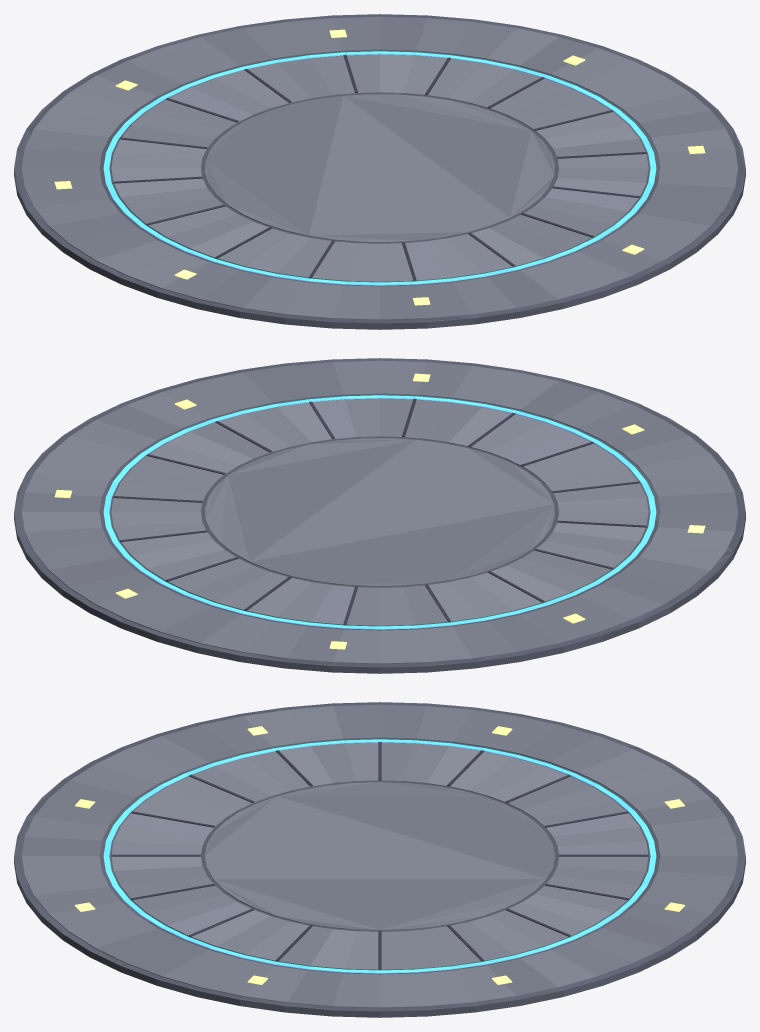
File: Floor_Hub_Disc.fbx
3 views of the same model, one above another, from view 1: azimuth 30°, elevation 25°; view 2: azimuth 150°, elevation 25°; view 3: azimuth 270°, elevation 25° (orthographic).
Visible parts, largest first — view 1: Floor_Hub_Disc; view 2: Floor_Hub_Disc; view 3: Floor_Hub_Disc.
Boxes of the visible parts, bbox=[...] form: Floor_Hub_Disc: bbox=[14, 14, 745, 329]; Floor_Hub_Disc: bbox=[14, 358, 745, 673]; Floor_Hub_Disc: bbox=[14, 702, 745, 1017].
Size of the model in its own units: 18.8 by 0.23 by 18.8.
